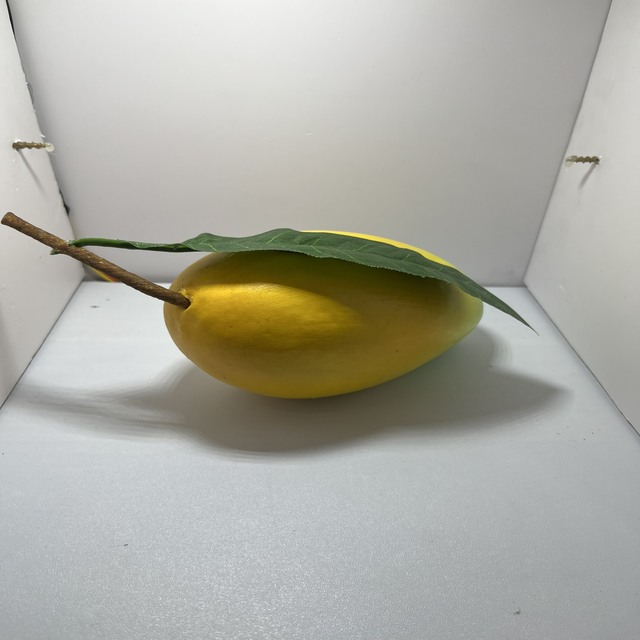Xoai: (162, 221, 492, 409)
